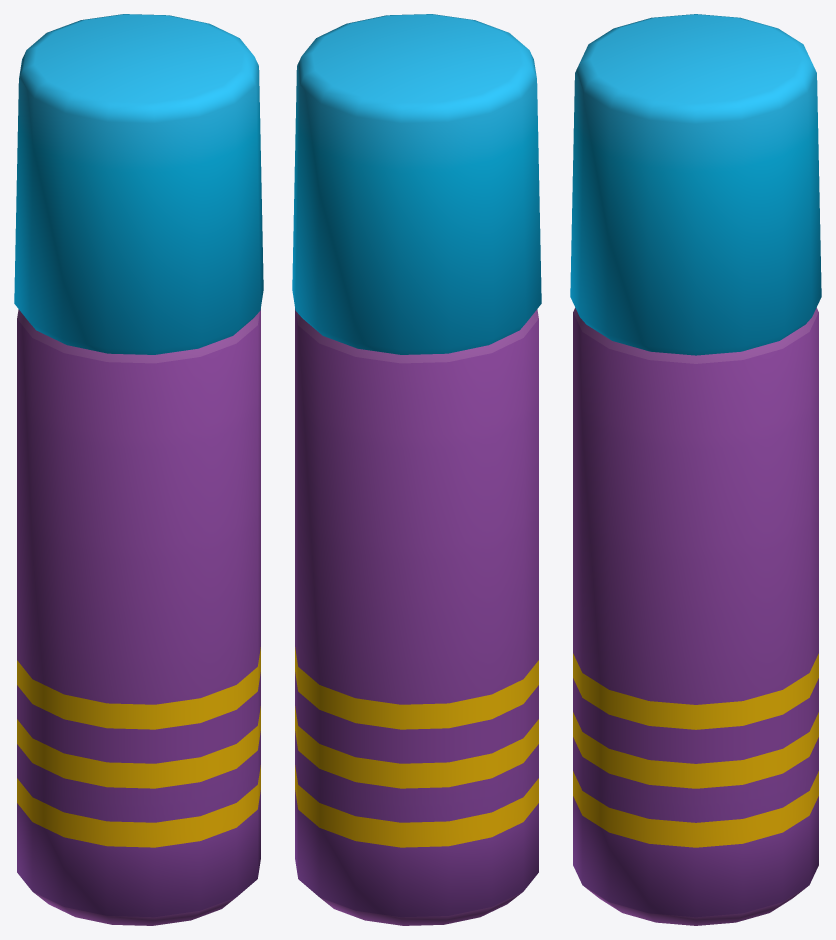
The model's file is Cream_005.fbx.
3 renders of one model, left to right at view 1: azimuth 30°, elevation 25°; view 2: azimuth 150°, elevation 25°; view 3: azimuth 270°, elevation 25°, orthographic.
Visible parts, largest first — view 1: Cream_005; view 2: Cream_005; view 3: Cream_005.
Boxes of the visible parts, x1,y1,x2,y2 form: Cream_005: [14, 14, 263, 925]; Cream_005: [292, 14, 541, 925]; Cream_005: [570, 14, 821, 925].
Size of the model in its own units: 6.93 by 6.93 by 25.02.
